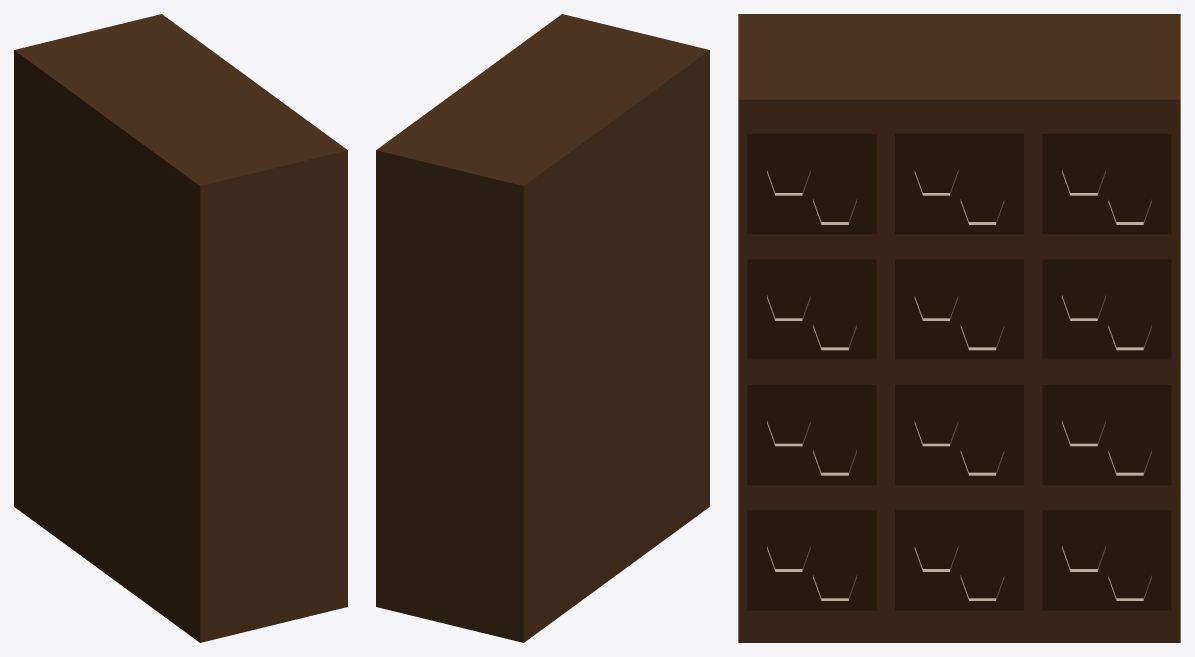
File: lab-scrolls.glb
The picture shows the model from 3 angles, left to right: view 1: azimuth 30°, elevation 25°; view 2: azimuth 150°, elevation 25°; view 3: azimuth 270°, elevation 25°; orthographic projection. The views are drawn at different scales.
Parts seen in each view (by area): view 1: lab-scrolls; view 2: lab-scrolls; view 3: lab-scrolls.
Part boxes in pixels (<box>): lab-scrolls: <box>14,14,347,642</box>; lab-scrolls: <box>376,14,709,642</box>; lab-scrolls: <box>738,14,1180,642</box>.
Bounding box in the file's own units: 0.46 × 1.3 × 0.96.
